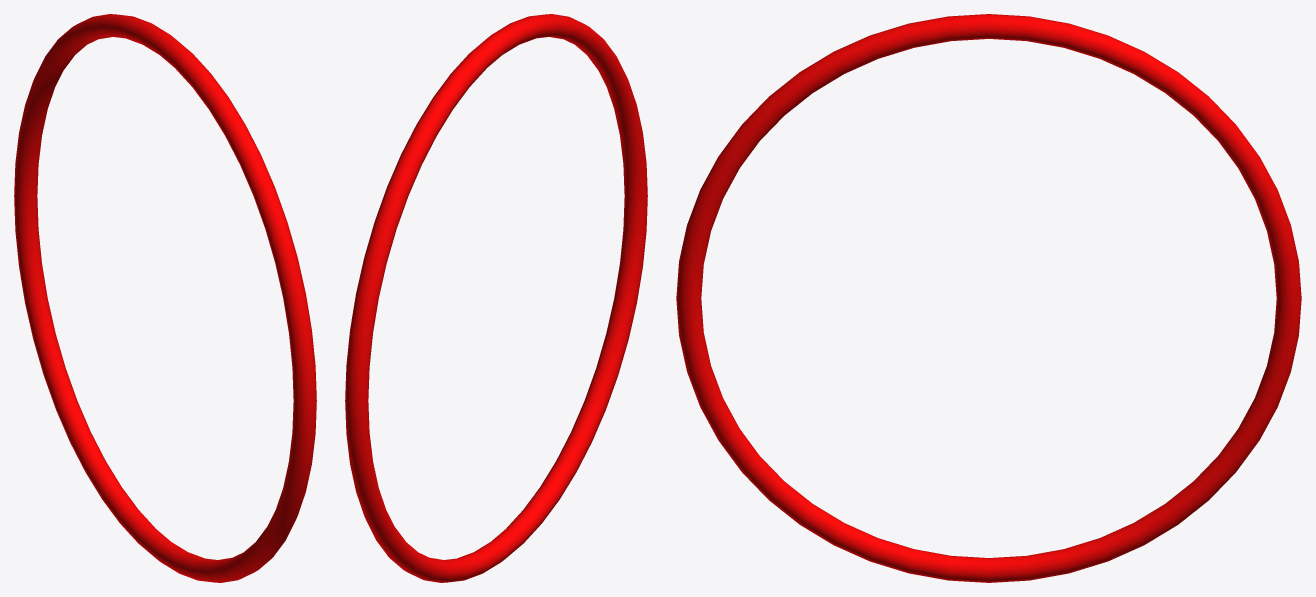
Rendered from Giz_rot_x.obj.
3 views of the same model, side by side, from view 1: azimuth 30°, elevation 25°; view 2: azimuth 150°, elevation 25°; view 3: azimuth 270°, elevation 25° (orthographic). The views are drawn at different scales.
Parts seen in each view (by area): view 1: EjeX_Torus.002; view 2: EjeX_Torus.002; view 3: EjeX_Torus.002.
Part boxes in pixels (x1=…): EjeX_Torus.002: x1=14, y1=14, x2=316, y2=582; EjeX_Torus.002: x1=345, y1=14, x2=647, y2=582; EjeX_Torus.002: x1=676, y1=14, x2=1301, y2=582.
Size of the model in its own units: 0.1375 by 3.44 by 3.44.
